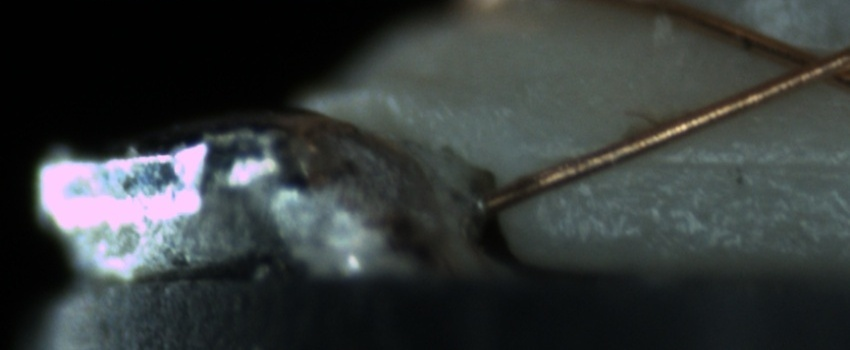CL: (762, 36, 849, 94)
DL: (564, 131, 848, 196)
